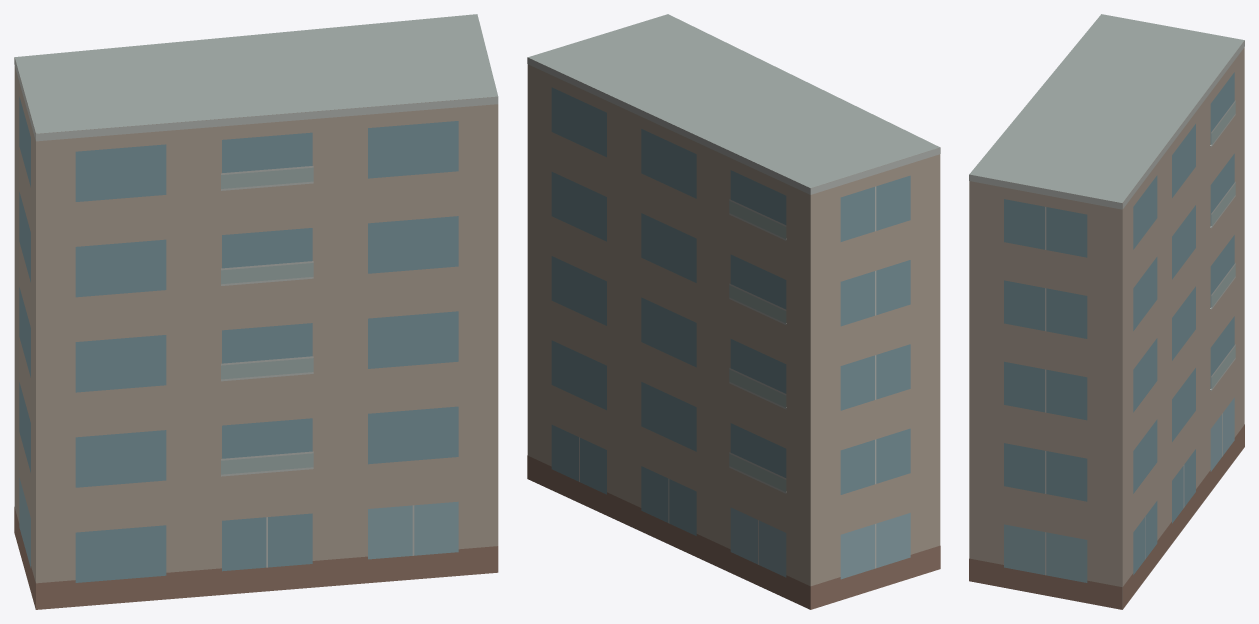
The model's file is survey-upis-32589413.glb.
3 renders of one model, left to right at view 1: azimuth 30°, elevation 25°; view 2: azimuth 150°, elevation 25°; view 3: azimuth 270°, elevation 25°, orthographic. The views are drawn at different scales.
Parts seen in each view (by area): view 1: survey-upis-32589413.tmp; view 2: survey-upis-32589413.tmp; view 3: survey-upis-32589413.tmp.
Part boxes in pixels (x1,y1,x2,y2): survey-upis-32589413.tmp: [14, 14, 498, 609]; survey-upis-32589413.tmp: [527, 14, 940, 609]; survey-upis-32589413.tmp: [969, 14, 1244, 609].
Size of the model in its own units: 15.22 by 15.25 by 9.38.
